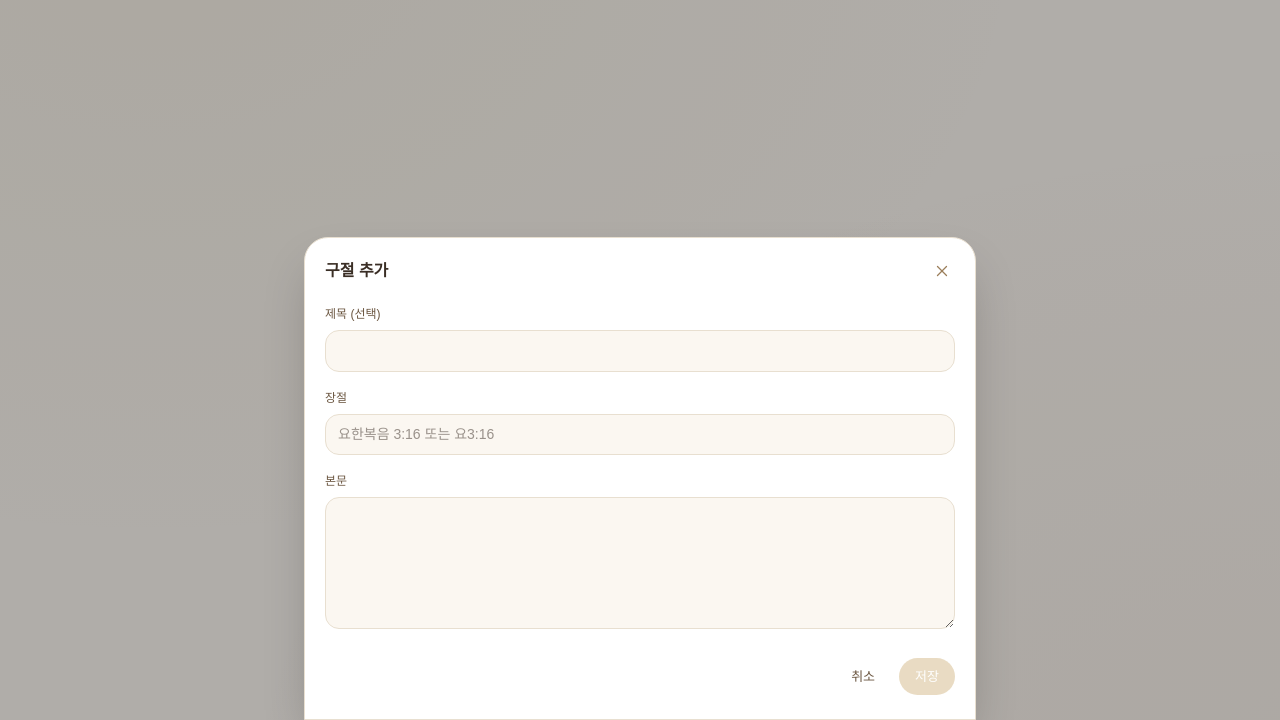
it: VerseEditSheet › on blur, normalizes the 장절 to the standard form and autofills 본문
In the field labelled "장절": (640, 434) [325,414,955,455], type "요3:16"
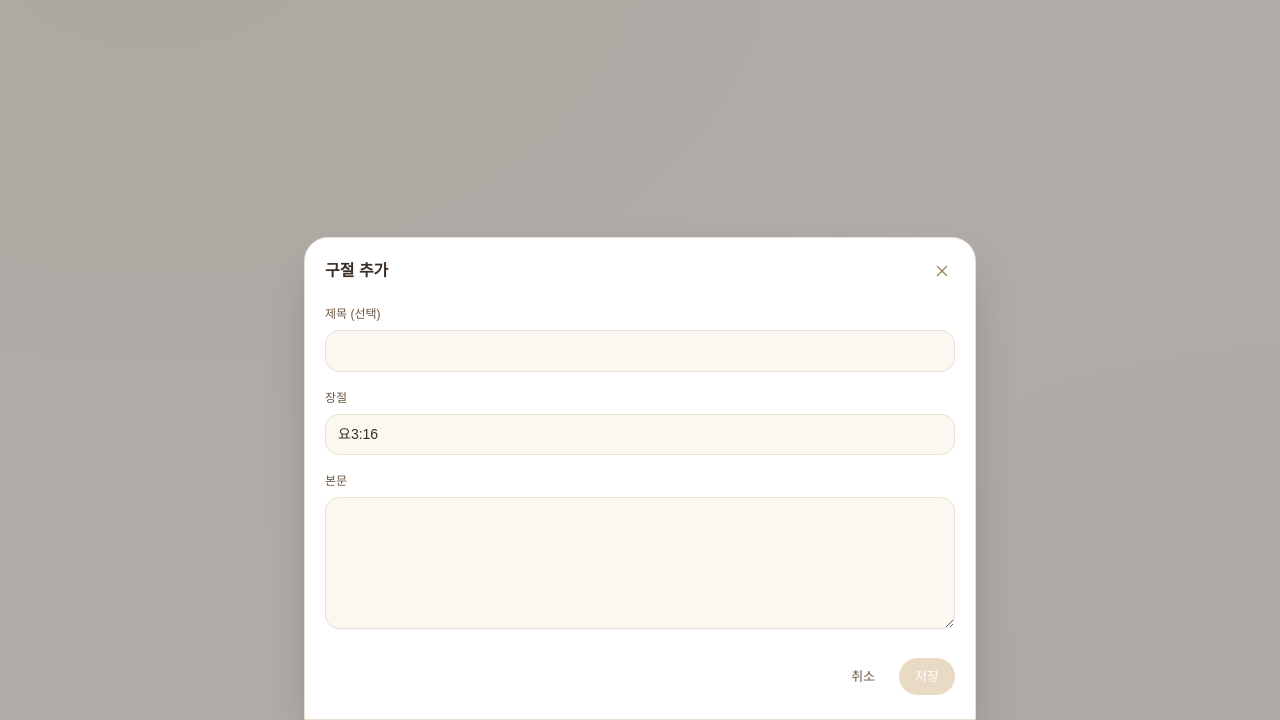
Leave the field labelled "장절", box [325,414,955,455]
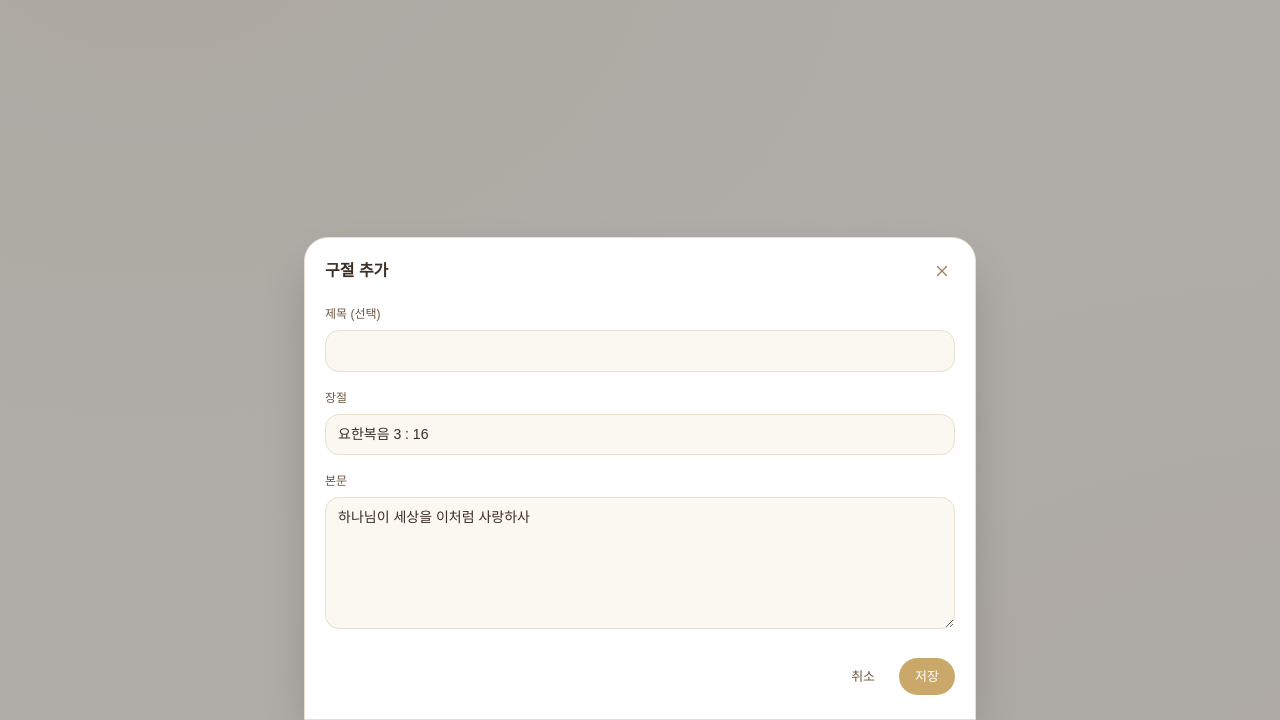
Check: the field labelled "장절" holds "요한복음 3 : 16", box [325,414,955,455]
Check: the text box labelled "본문" holds "하나님이 세상을 이처럼 사랑하사", box [325,497,955,629]
